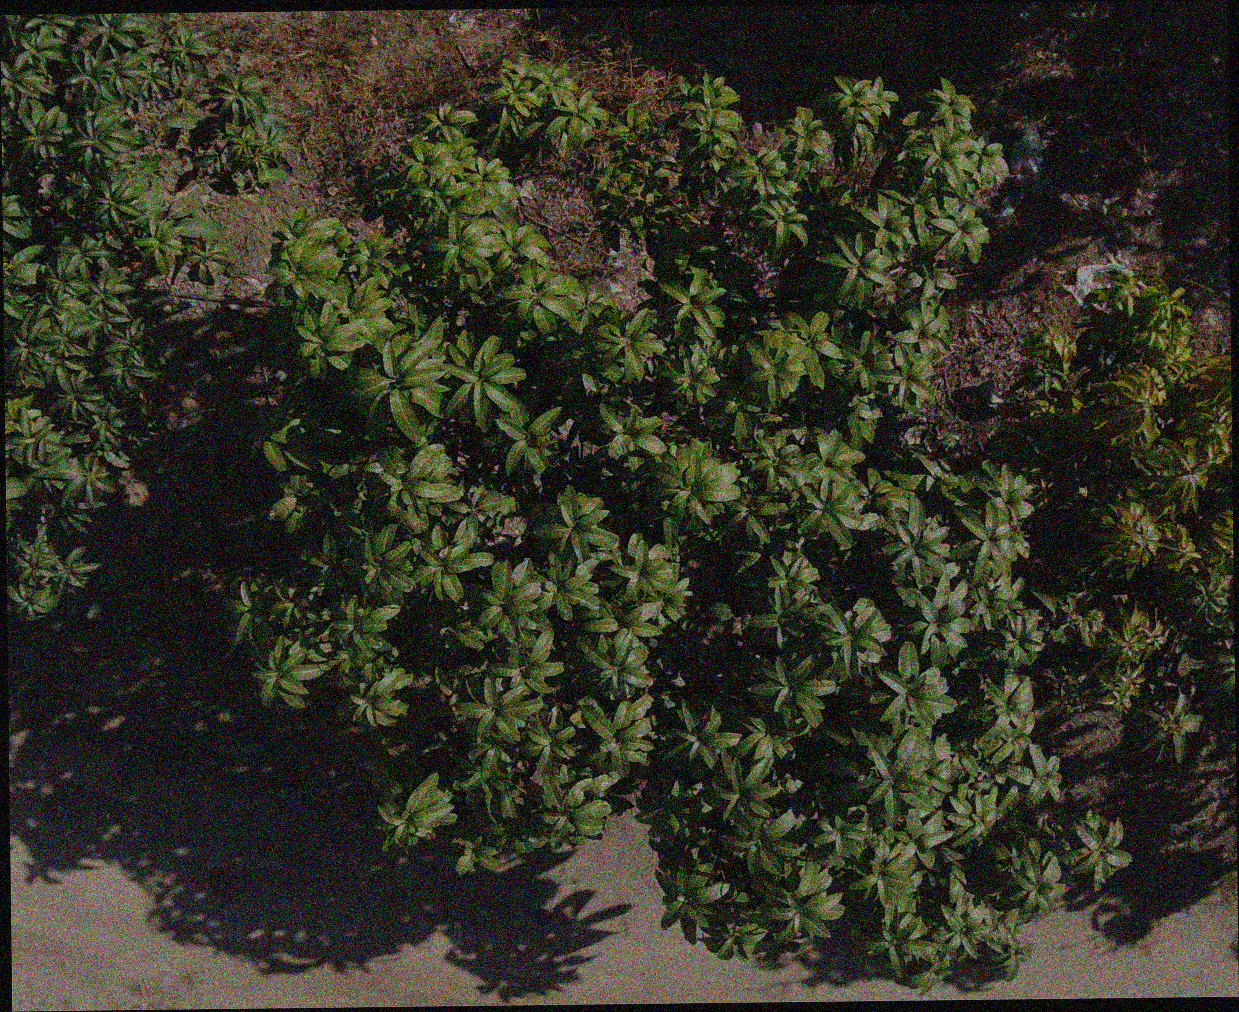flowers: (73, 33, 94, 51), (3, 255, 12, 279)
